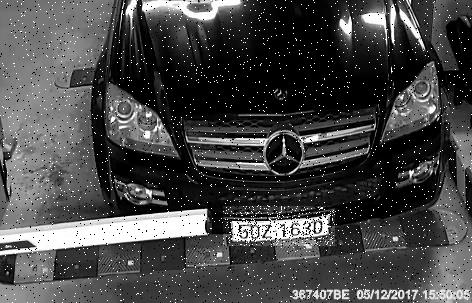License-plate: (225, 207, 338, 247)
